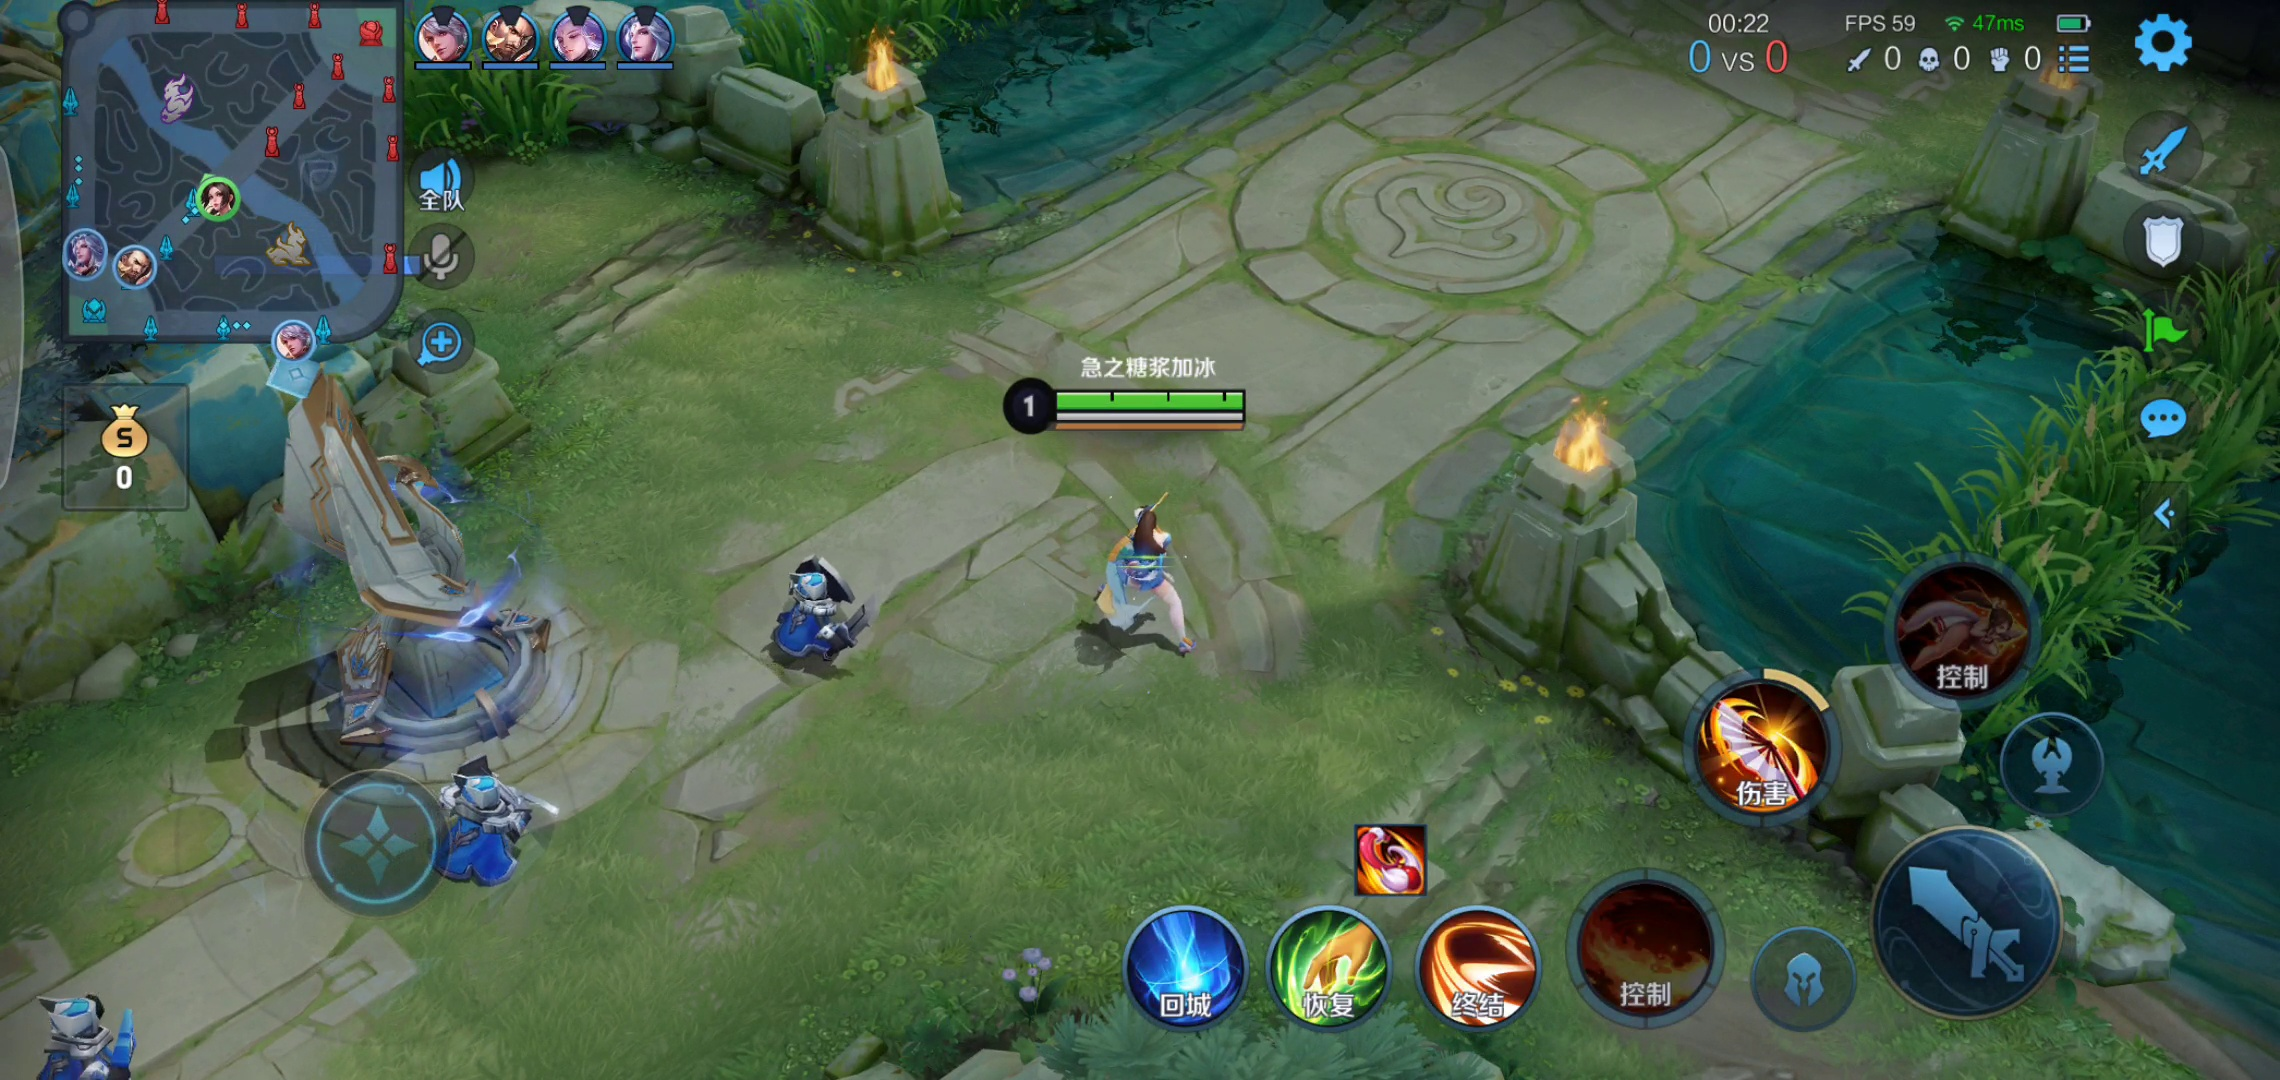grass: (1879, 234, 2279, 782), (721, 6, 1067, 89), (364, 33, 595, 147)
hero: (1075, 481, 1216, 656)
soldier: (420, 765, 558, 894), (746, 552, 880, 676), (19, 987, 141, 1079)
tower: (228, 374, 564, 738)
